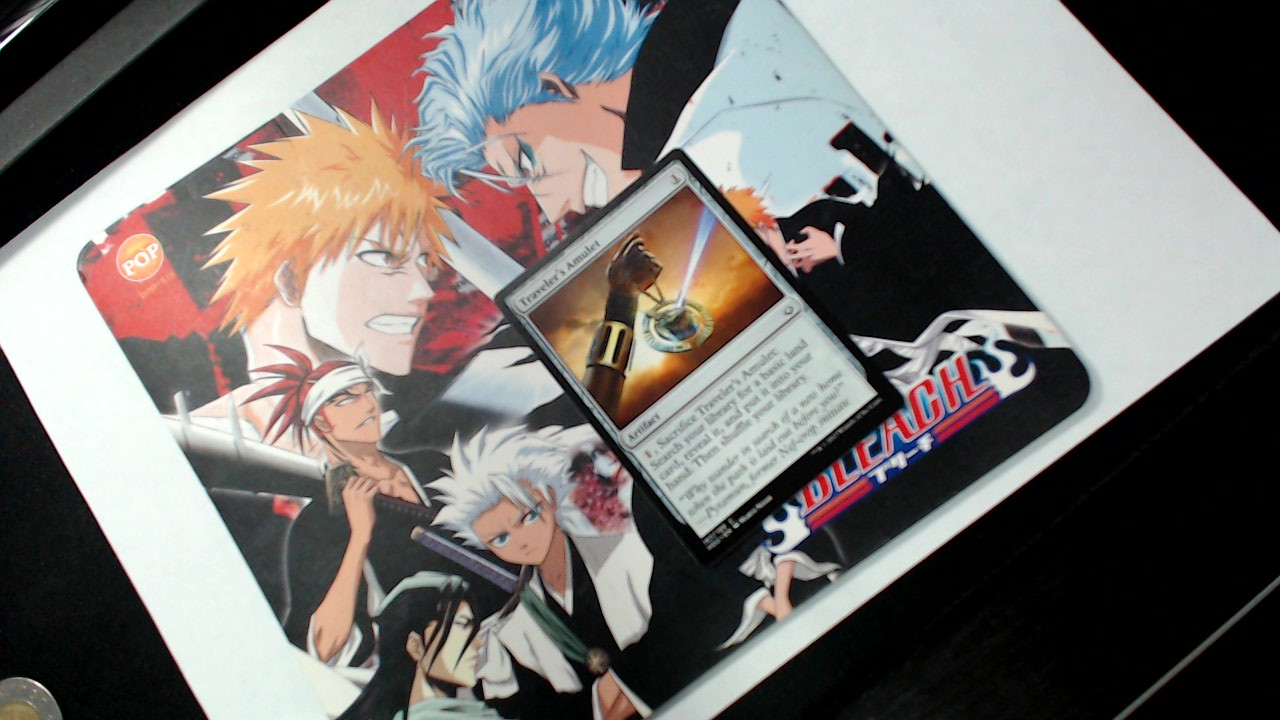MTG Card: (492, 143, 917, 574)
